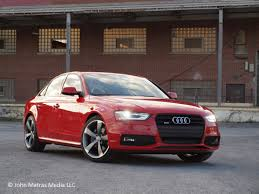car: (23, 71, 220, 162)
